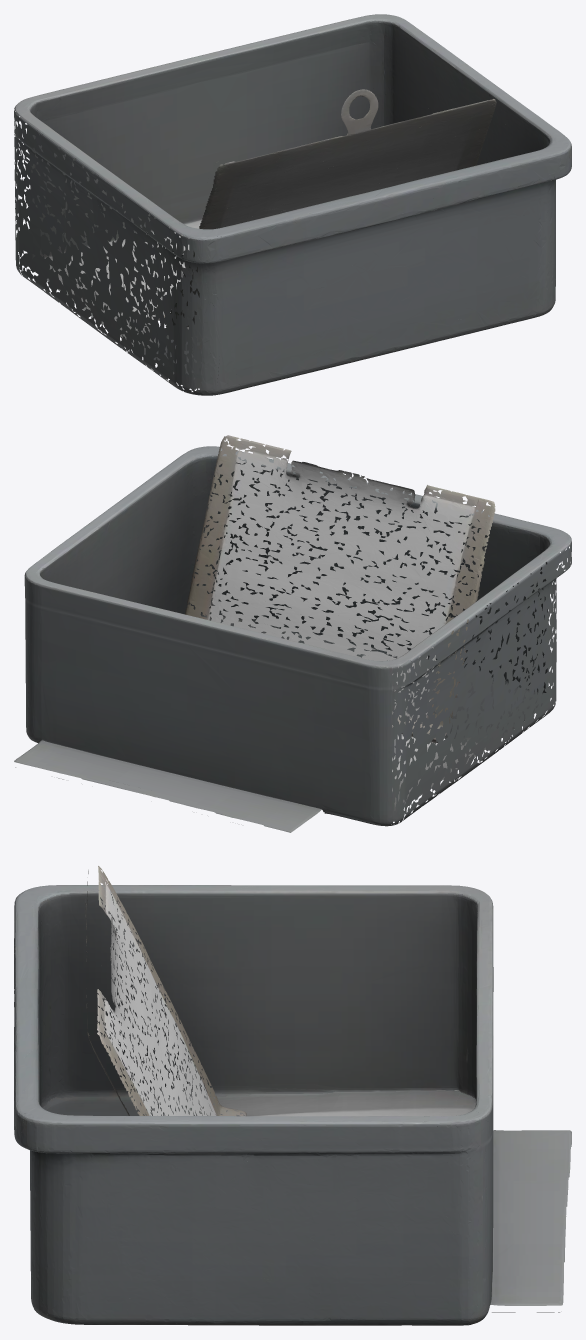
3 views of the same model, one above another, from view 1: azimuth 30°, elevation 25°; view 2: azimuth 150°, elevation 25°; view 3: azimuth 270°, elevation 25° (orthographic). The views are drawn at different scales.
Parts seen in each view (by area): view 1: geometry_0; view 2: geometry_0; view 3: geometry_0.
Part boxes in pixels (left/top/right/bottom): geometry_0: left=14, top=14, right=571, bottom=395; geometry_0: left=14, top=435, right=571, bottom=832; geometry_0: left=14, top=866, right=571, bottom=1325.
Size of the model in its own units: 0.9999 by 0.6145 by 0.9852.
1 material, 1 textured.
